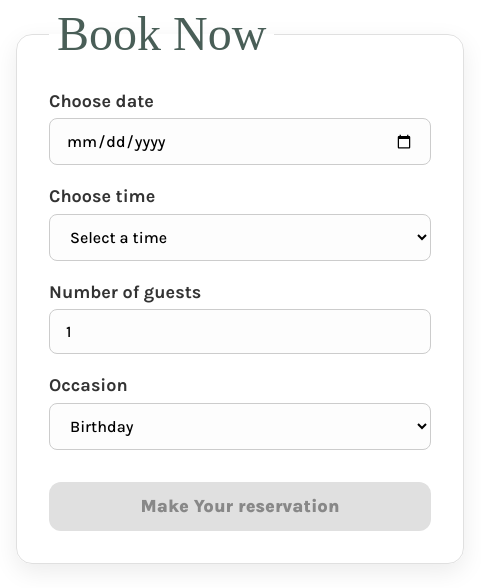
Test: BookingForm Validation & Submission Tests › JavaScript State Validation › Submit button should be disabled if guests input is invalid (< 1 or > 10)
The image size is (481, 588).
# Input tanggal & waktu valid, tapi guests diisi 0 (invalid)
Step 1. Type "2026-08-01" into the date field labelled "Choose date" → (240, 142), box [49, 118, 431, 165]
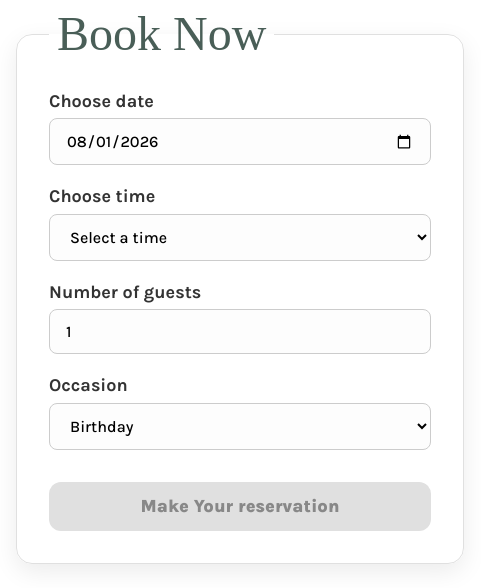
Step 2. Select "17:00" in the dropdown labelled "Choose time" → (240, 237), box [49, 214, 431, 261]
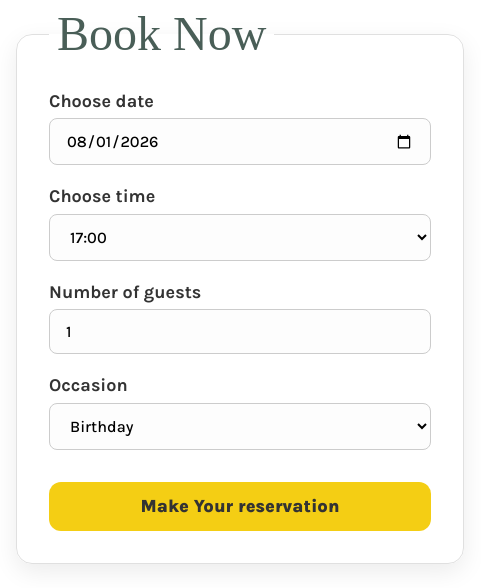
Step 3. Type "0" into the number field labelled "Number of guests" → (240, 332), box [49, 309, 431, 354]
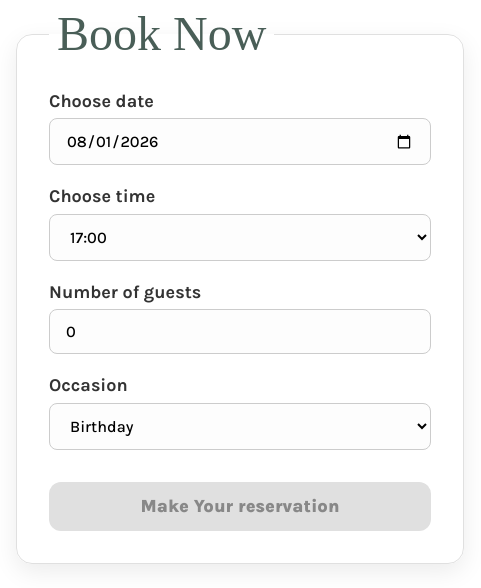
expect the button with aria-label "on click" is disabled: met, box [49, 482, 431, 531]
